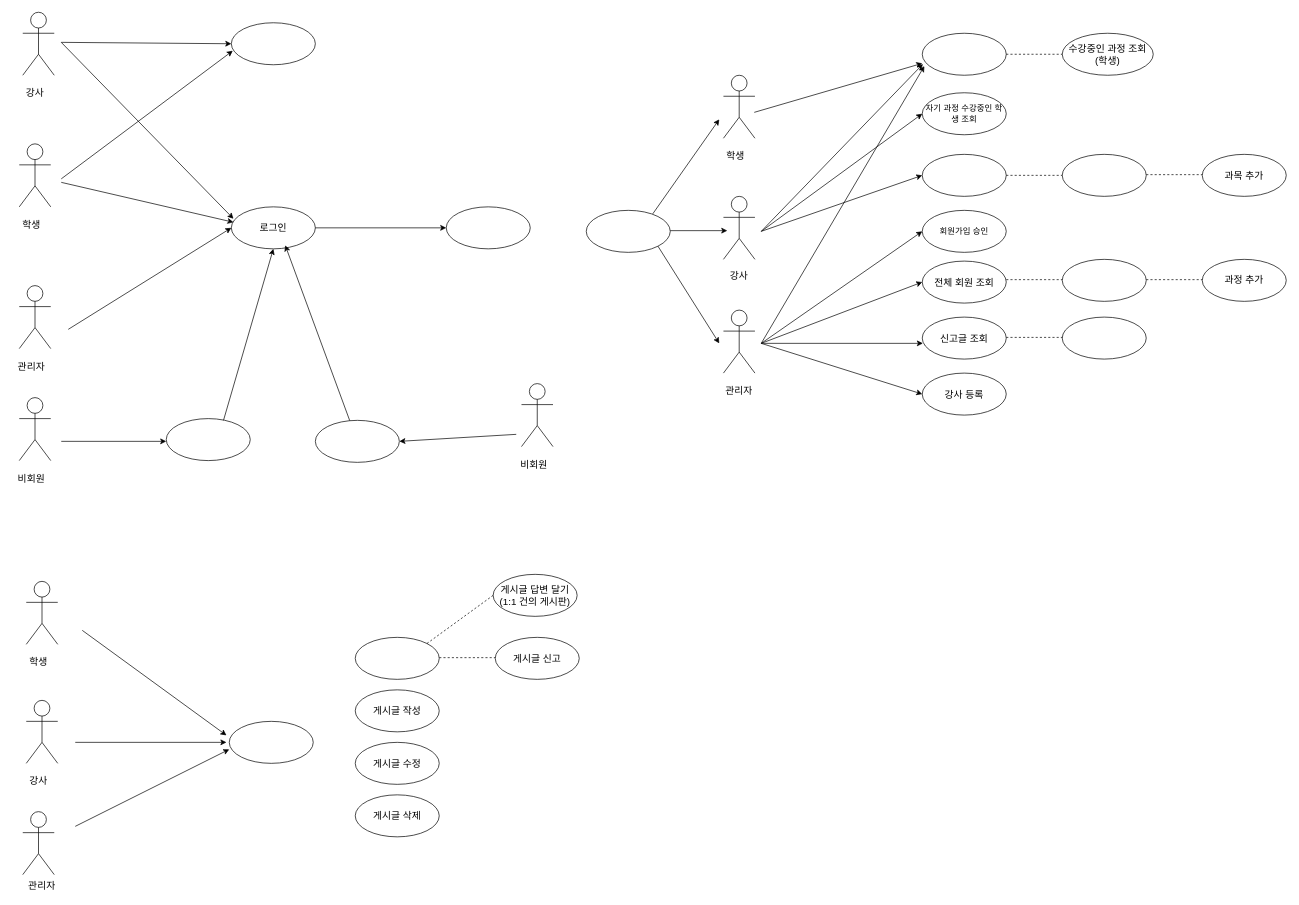
The diagram is 1299 pixels wide and 905 high, and some of its shapes have lost their labels. Each missing label, with the centre of its shape:
가입 신청 승인: [208,439]
개인정보 수정: [964,54]
게시글 조회: [397,658]
게시판 (1:1 건의 게시판, 자료게시판): [271,742]
과정에 과목 추가: [1104,175]
마이페이지: [628,231]
메인페이지: [488,227]
비밀번호 초기화: [273,43]
신고글 삭제: [1104,337]
자기 과정에 포함된 과목 조회: [964,175]
회원 정보 수정: [1104,280]
회원가입: [357,441]
